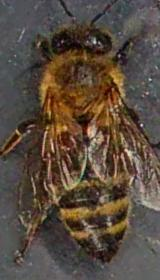varroa_mite: (54, 127, 80, 155)
